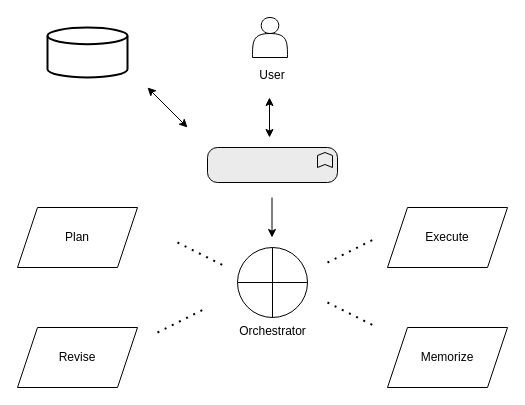
This 525x405 diagram has some shape labels left out. The centre of each missing label's shape, as x and y in pixels:
Entry Point: the point at 272,164
State: the point at 87,52
